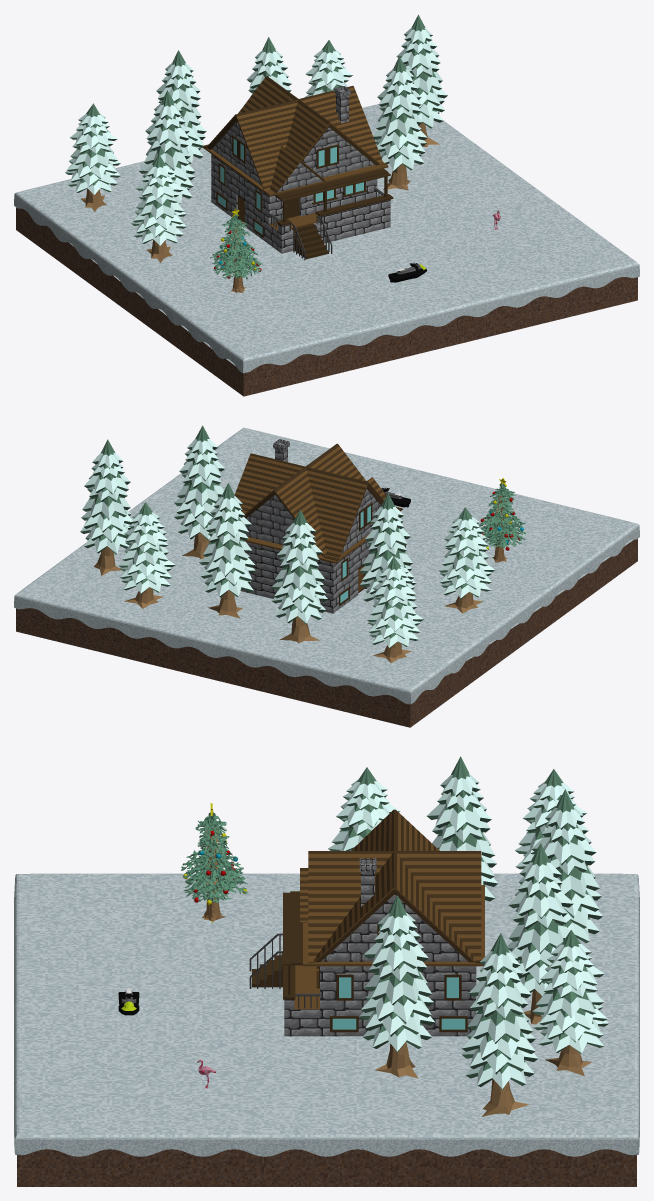
The picture shows the model from 3 angles, top to bottom: view 1: azimuth 30°, elevation 25°; view 2: azimuth 150°, elevation 25°; view 3: azimuth 270°, elevation 25°; orthographic projection. The views are drawn at different scales.
Visible parts, largest first — view 1: Cube.003, Cube.586, OBJRANDOM_CHRISTMAS_TREE; view 2: Cube.003, Cube.586, OBJRANDOM_CHRISTMAS_TREE; view 3: Cube.003, Cube.586, OBJRANDOM_CHRISTMAS_TREE.
Part boxes in pixels (<box>): Cube.003: <box>14,14,639,396</box>; Cube.586: <box>202,76,393,260</box>; OBJRANDOM_CHRISTMAS_TREE: <box>210,209,262,292</box>; Cube.003: <box>14,425,639,727</box>; Cube.586: <box>234,439,405,613</box>; OBJRANDOM_CHRISTMAS_TREE: <box>479,478,525,562</box>; Cube.003: <box>14,756,639,1186</box>; Cube.586: <box>249,809,484,1036</box>; OBJRANDOM_CHRISTMAS_TREE: <box>181,803,248,922</box>.
Bounding box in the file's own units: 4040 × 1665 × 4040.
26 materials, 4 textured.
